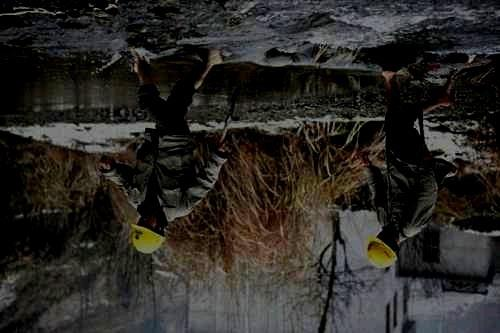helmet: (130, 207, 167, 254), (365, 229, 401, 268)
